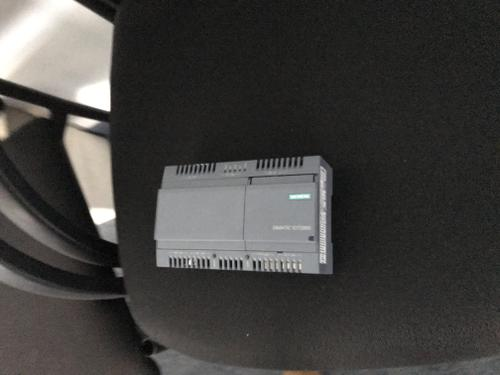device: (155, 156, 333, 274)
